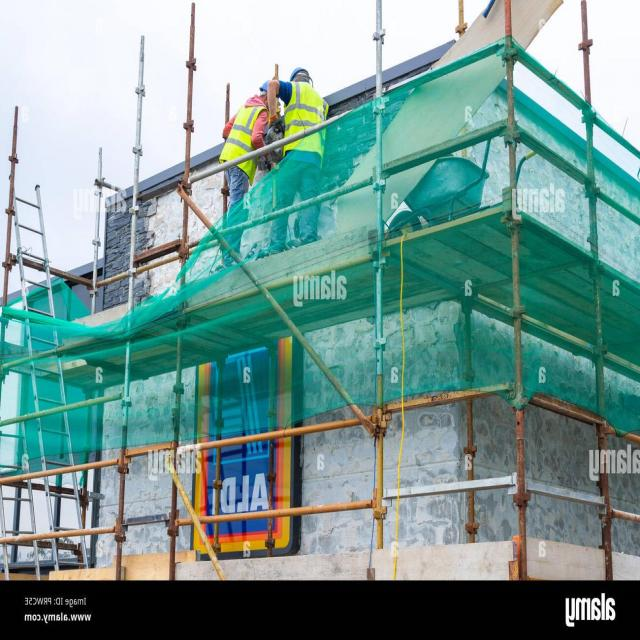Reflective-Jacket: (219, 94, 268, 171), (281, 79, 330, 155)
Safety-Helmet: (288, 64, 312, 82)
